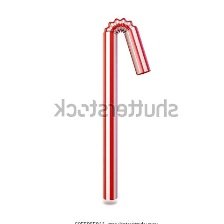drinking_straw: (92, 11, 156, 209)
